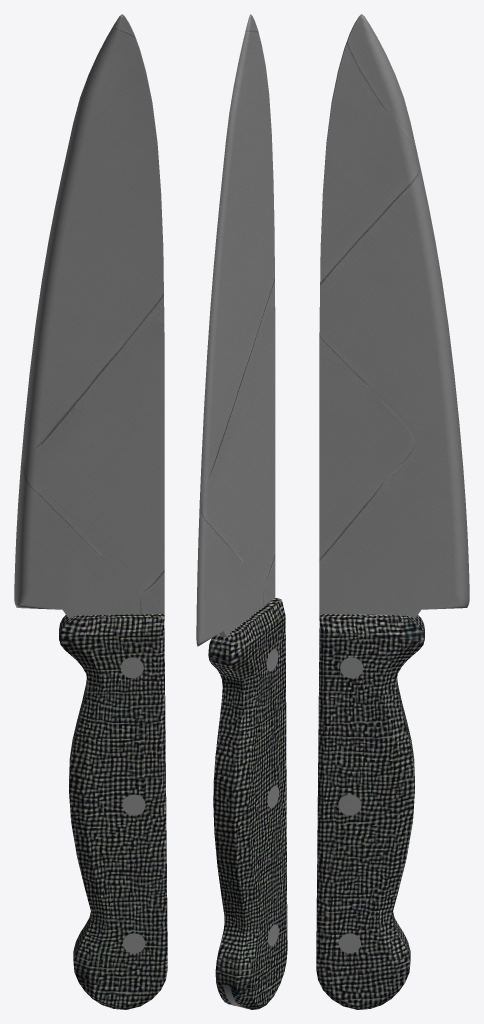
Rendered from Knife.fbx.
3 renders of one model, left to right at view 1: azimuth 90°, elevation 25°; view 2: azimuth 150°, elevation 25°; view 3: azimuth 270°, elevation 25°, orthographic.
Parts seen in each view (by area): view 1: Knife; view 2: Knife; view 3: Knife.
Boxes of the visible parts, x1,y1,x2,y2 form: Knife: (14, 14, 167, 1009); Knife: (196, 14, 287, 1009); Knife: (316, 14, 469, 1009).
Bounding box in the file's own units: 0.692 × 19.15 × 2.69.
2 materials, 2 textured.
